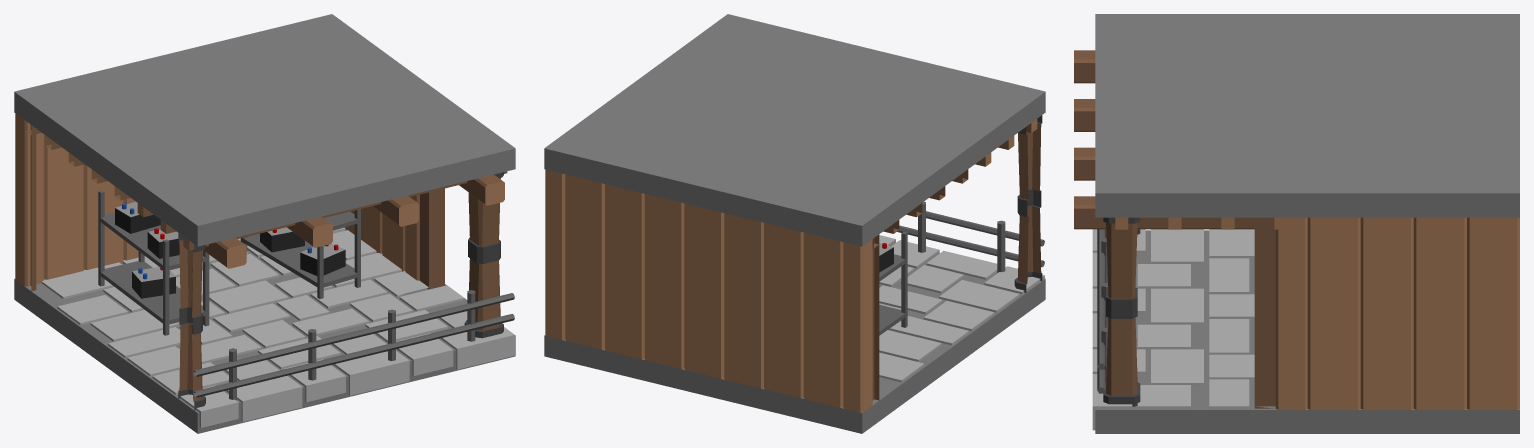
File: BatteryRoom_Lvl_02_Straight_Right.fbx
3 renders of one model, left to right at view 1: azimuth 30°, elevation 25°; view 2: azimuth 150°, elevation 25°; view 3: azimuth 270°, elevation 25°, orthographic. The views are drawn at different scales.
Visible parts, largest first — view 1: BatteryRoom_Lvl_02_Straight_Right; view 2: BatteryRoom_Lvl_02_Straight_Right; view 3: BatteryRoom_Lvl_02_Straight_Right.
Boxes of the visible parts, box(x1,y1,x2,y2) form: BatteryRoom_Lvl_02_Straight_Right: box(14, 14, 515, 433); BatteryRoom_Lvl_02_Straight_Right: box(544, 14, 1045, 433); BatteryRoom_Lvl_02_Straight_Right: box(1074, 14, 1519, 433).
Size of the model in its own units: 8 by 5 by 8.4.
